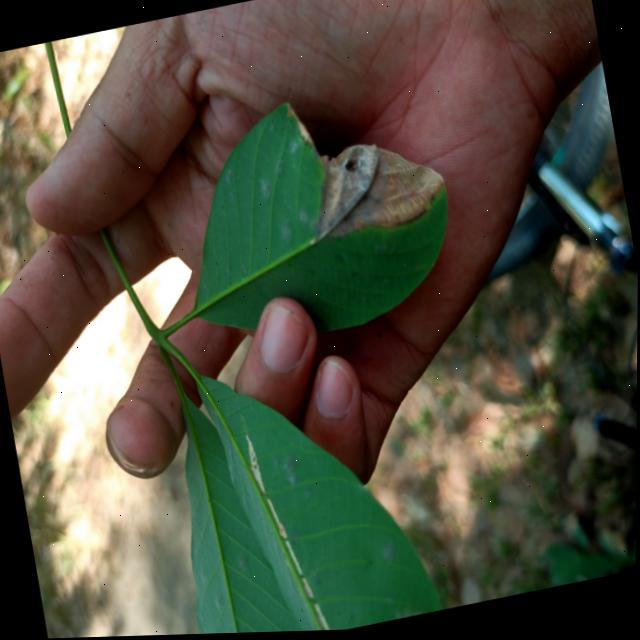Leaf-Blight: (303, 130, 452, 247), (244, 434, 265, 497), (266, 498, 288, 543), (285, 541, 301, 577), (296, 119, 313, 151), (313, 602, 330, 633), (302, 579, 314, 602)
